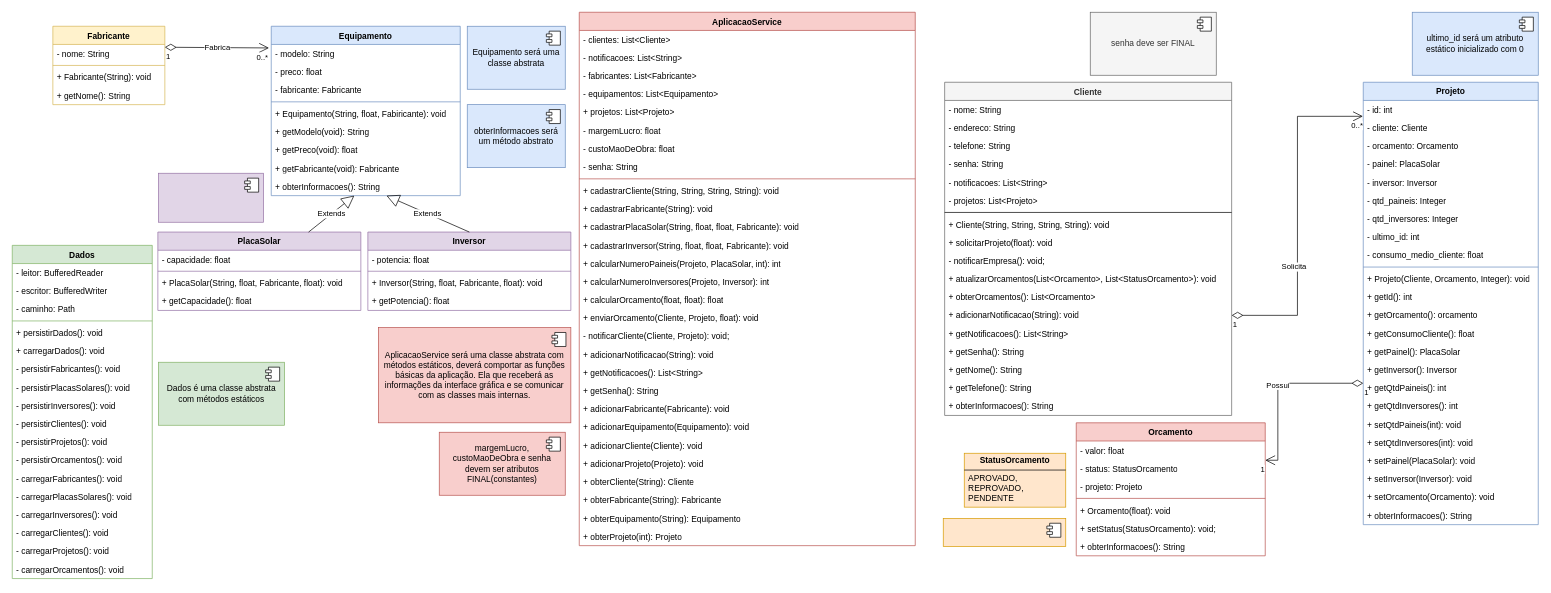
Some shapes in this 1551 by 593 pixel diagram are drawn without their labels. Here are the shapes that lost their labels. From the top down, the centre of each, then its label:
At point (211, 197): "Deve ser utilizado watt ou kilowatt para potência e capacidade. Padronizar.".
At point (1004, 532): "StatusOrcamento é um enum".
